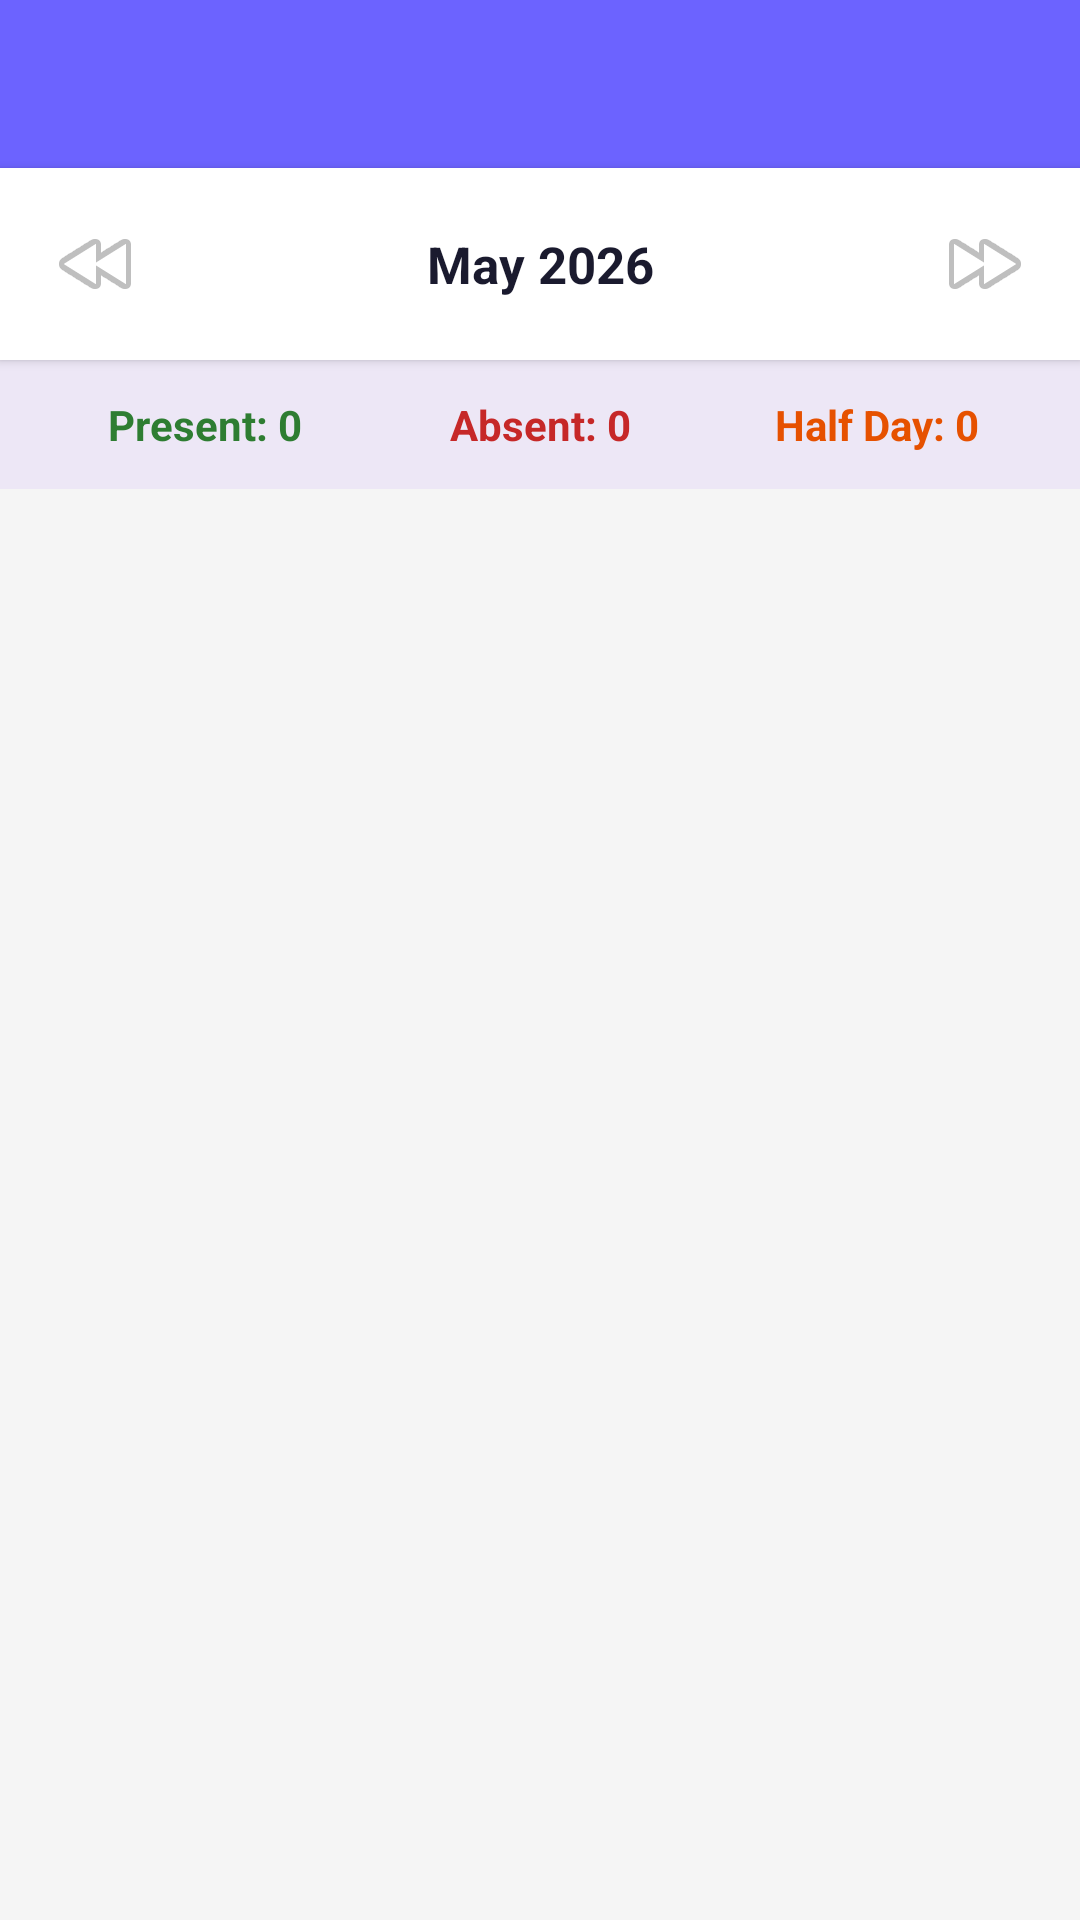

Named icons in this screenshot (1080x1920) and their centers, [x,y]:
Next month: [985,264]
Previous month: [95,264]
